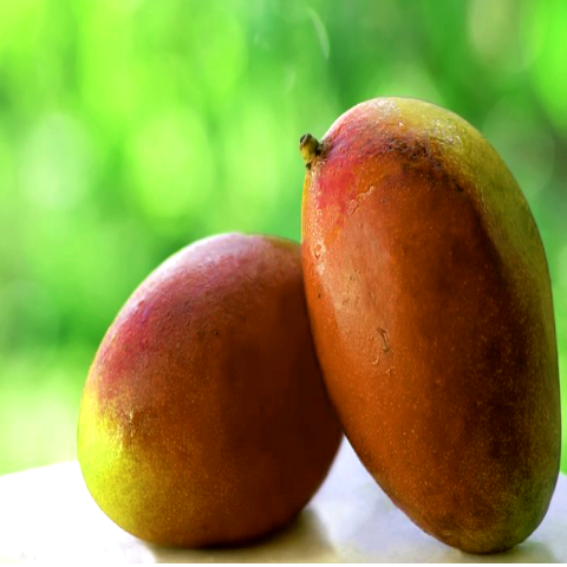mango: (269, 91, 566, 567), (50, 228, 381, 561)
